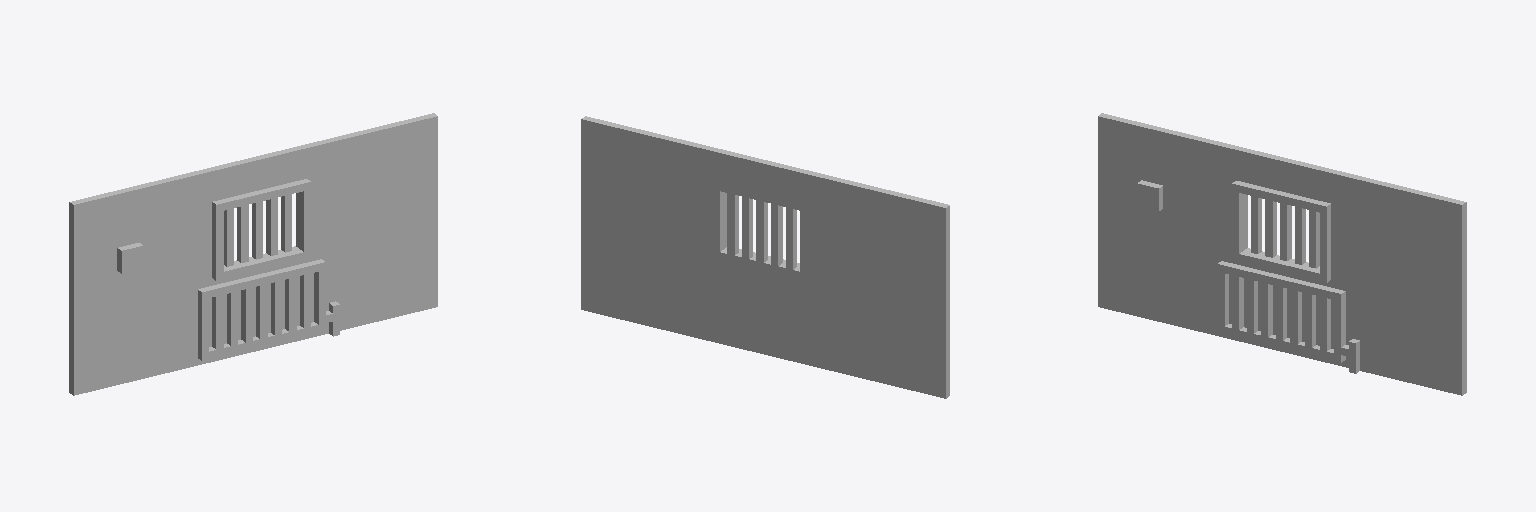
The model's file is Hallway Wall.obj.
The picture shows the model from 3 angles: view 1: azimuth 30°, elevation 25°; view 2: azimuth 150°, elevation 25°; view 3: azimuth 330°, elevation 25°; orthographic projection.
Bounding box in the file's own units: 50 × 25 × 2.